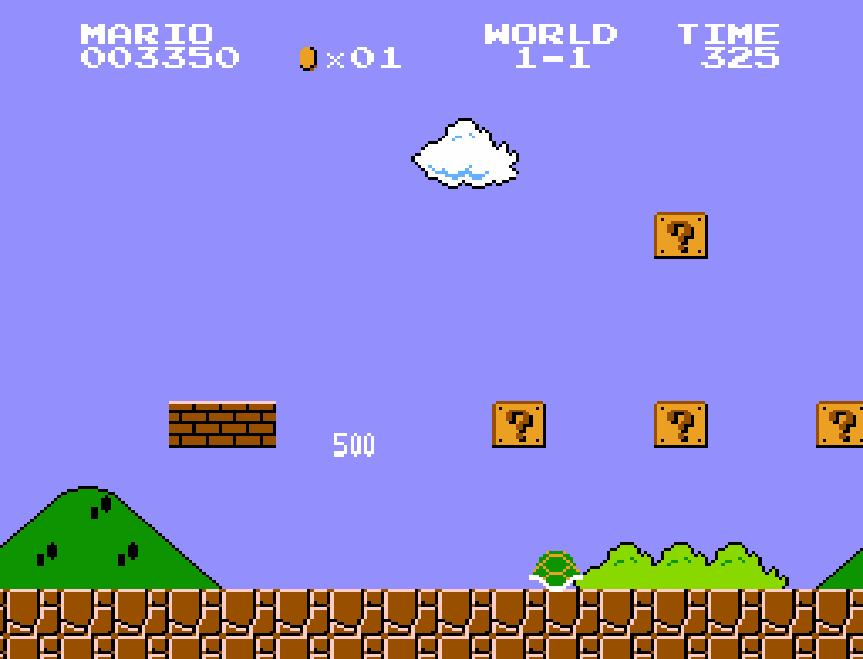little_mario: (311, 544, 369, 594)
